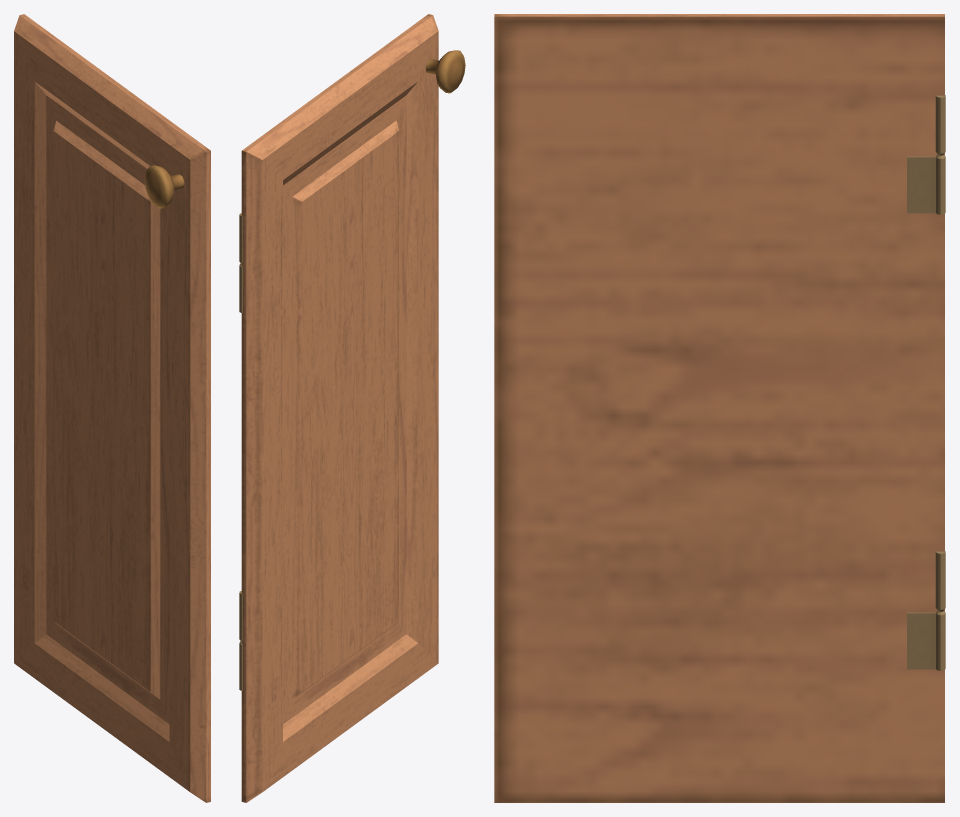
File: SM_BathShelf_A1_DoorA.fbx
3 views of the same model, side by side, from view 1: azimuth 30°, elevation 25°; view 2: azimuth 150°, elevation 25°; view 3: azimuth 270°, elevation 25° (orthographic). The views are drawn at different scales.
Parts seen in each view (by area): view 1: SM_BathShelf_A1_DoorA; view 2: SM_BathShelf_A1_DoorA; view 3: SM_BathShelf_A1_DoorA.
Boxes of the visible parts, x1,y1,x2,y2 form: SM_BathShelf_A1_DoorA: (14, 14, 210, 802); SM_BathShelf_A1_DoorA: (239, 14, 465, 802); SM_BathShelf_A1_DoorA: (494, 14, 945, 802).
Bounding box in the file's own units: 4.86 × 31.46 × 60.43.
Materials: 3 (3 with a texture image).
